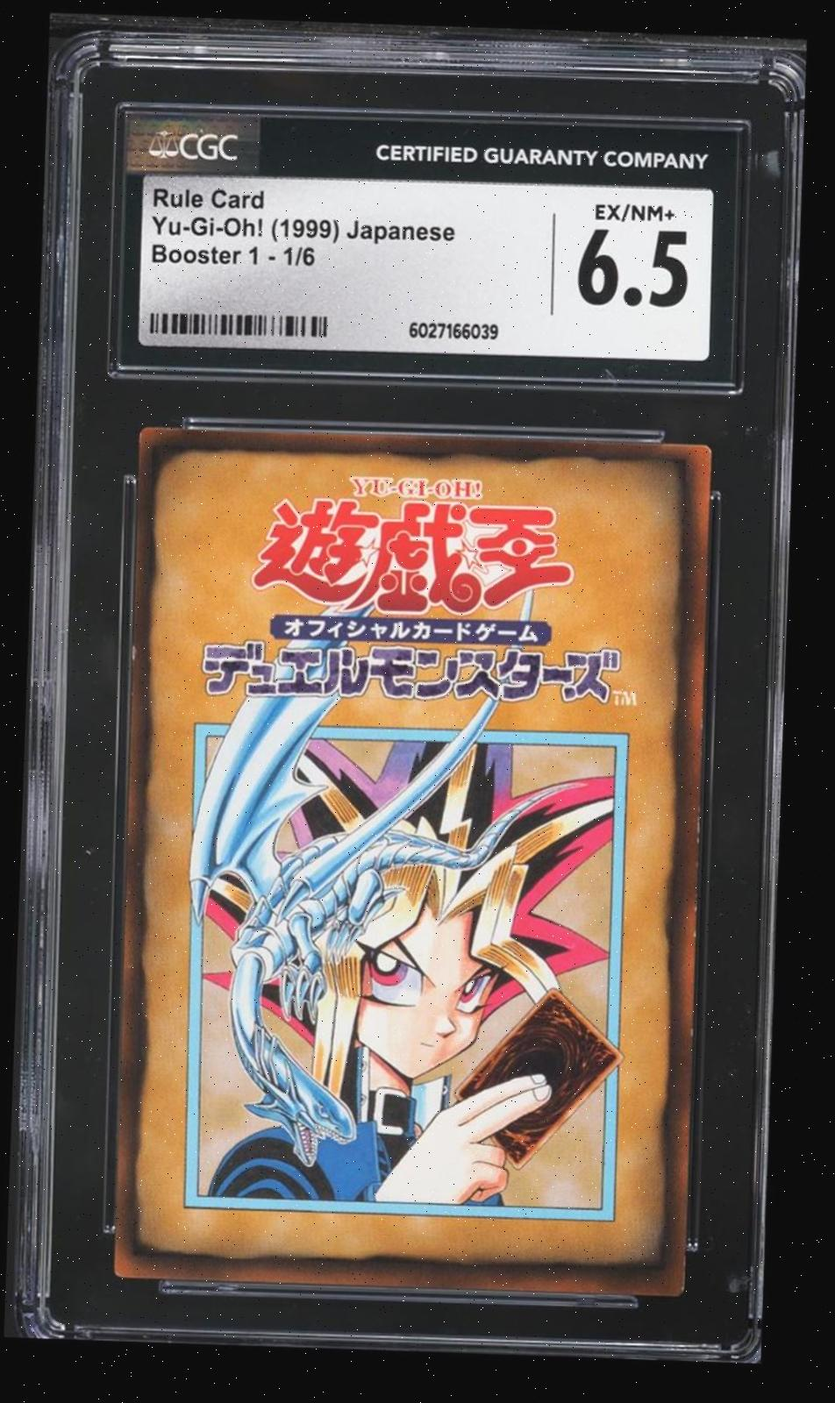card-2UtV: (113, 426, 712, 1297)
